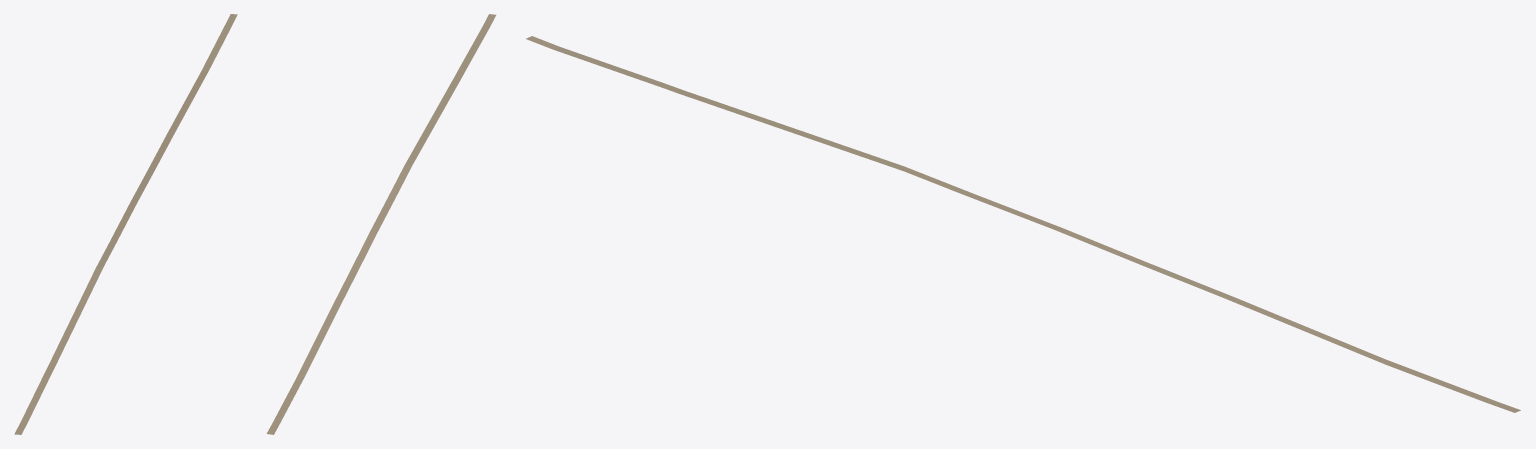
File: farm_-9_7_track.glb
The picture shows the model from 3 angles, left to right: view 1: azimuth 30°, elevation 25°; view 2: azimuth 210°, elevation 25°; view 3: azimuth 270°, elevation 25°; orthographic projection. The views are drawn at different scales.
Parts seen in each view (by area): view 1: geometry_0; view 2: geometry_0; view 3: geometry_0.
Boxes of the visible parts, left/top/right/bottom form: geometry_0: left=14, top=14, right=237, bottom=434; geometry_0: left=266, top=14, right=496, bottom=434; geometry_0: left=526, top=36, right=1520, bottom=412.
Size of the model in its own units: 303 by 5.14 by 331.
